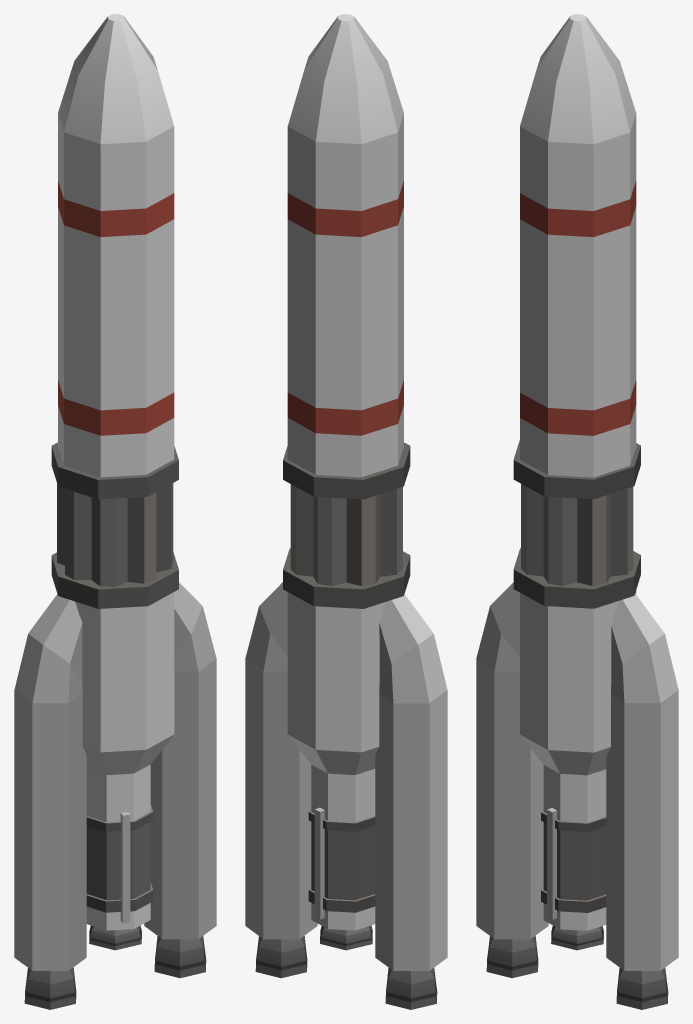
The model's file is SM_Veh_Rocket_05.fbx.
3 renders of one model, left to right at view 1: azimuth 30°, elevation 25°; view 2: azimuth 150°, elevation 25°; view 3: azimuth 330°, elevation 25°, orthographic.
Parts seen in each view (by area): view 1: SM_Veh_Rocket_05; view 2: SM_Veh_Rocket_05; view 3: SM_Veh_Rocket_05.
Boxes of the visible parts, x1,y1,x2,y2 form: SM_Veh_Rocket_05: (14, 14, 216, 1009); SM_Veh_Rocket_05: (245, 14, 447, 1009); SM_Veh_Rocket_05: (476, 14, 678, 1009).
Size of the model in its own units: 3.02 by 15.09 by 1.87.
